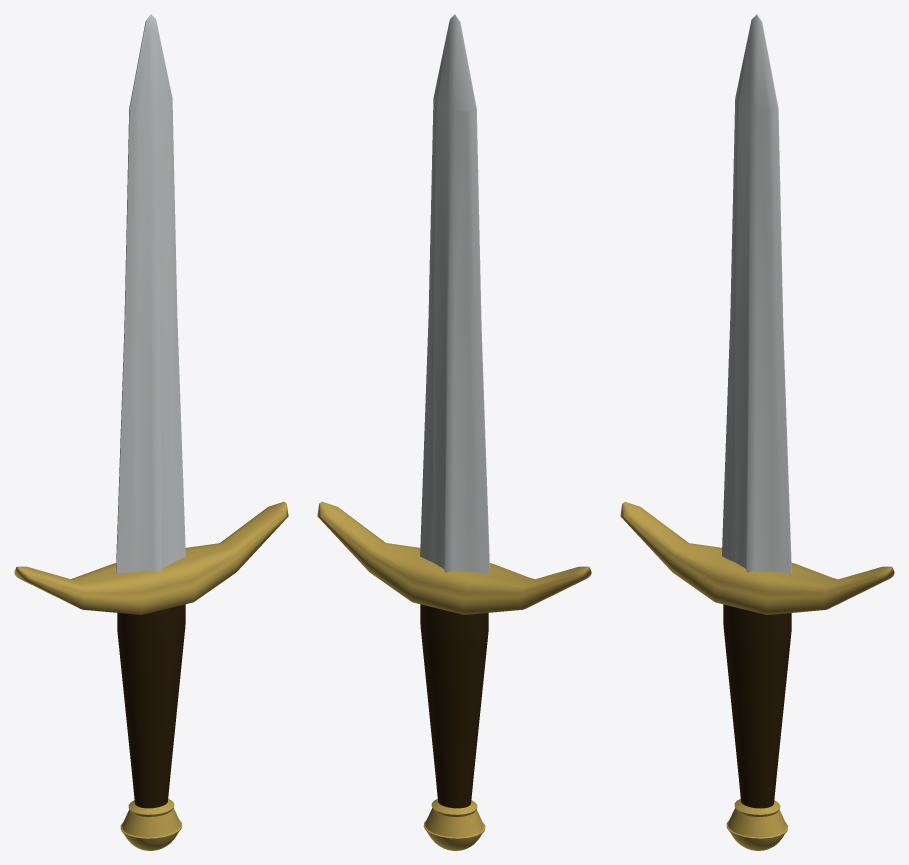
File: Dagger_0.fbx
3 renders of one model, left to right at view 1: azimuth 30°, elevation 25°; view 2: azimuth 150°, elevation 25°; view 3: azimuth 330°, elevation 25°, orthographic.
Visible parts, largest first — view 1: dagger; view 2: dagger; view 3: dagger.
Boxes of the visible parts, box(x1,y1,x2,y2) form: dagger: box(14, 14, 288, 850); dagger: box(317, 14, 591, 850); dagger: box(620, 14, 894, 850).
Size of the model in its own units: 8.19 by 24.23 by 1.75.
